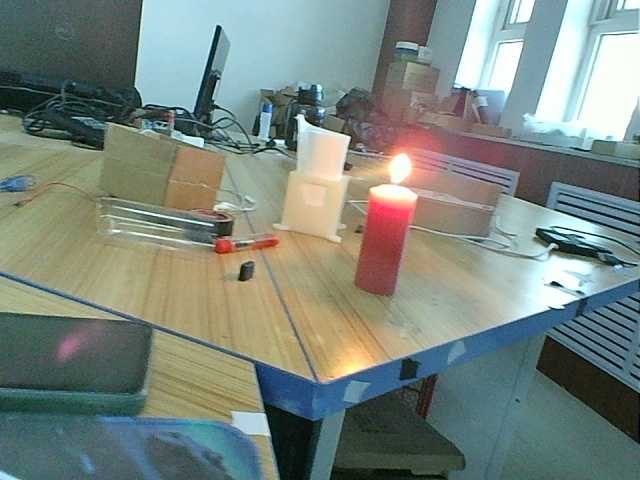candle: (348, 175, 419, 295)
fire: (368, 147, 421, 193)
